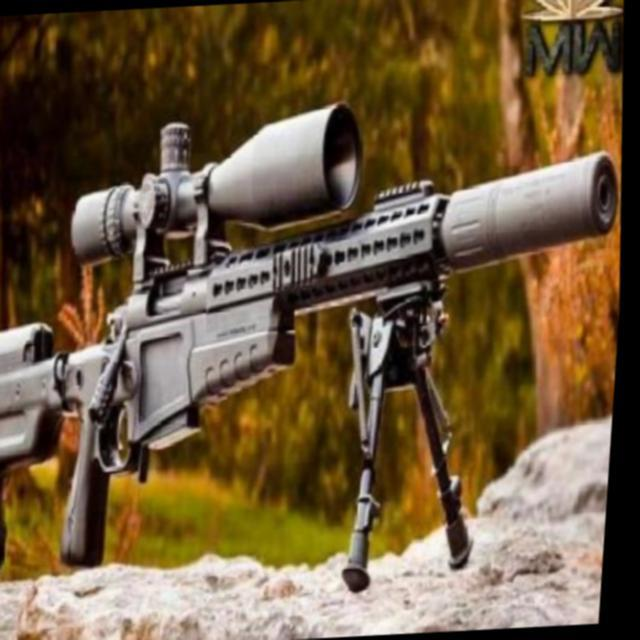weapon: (0, 86, 635, 610)
